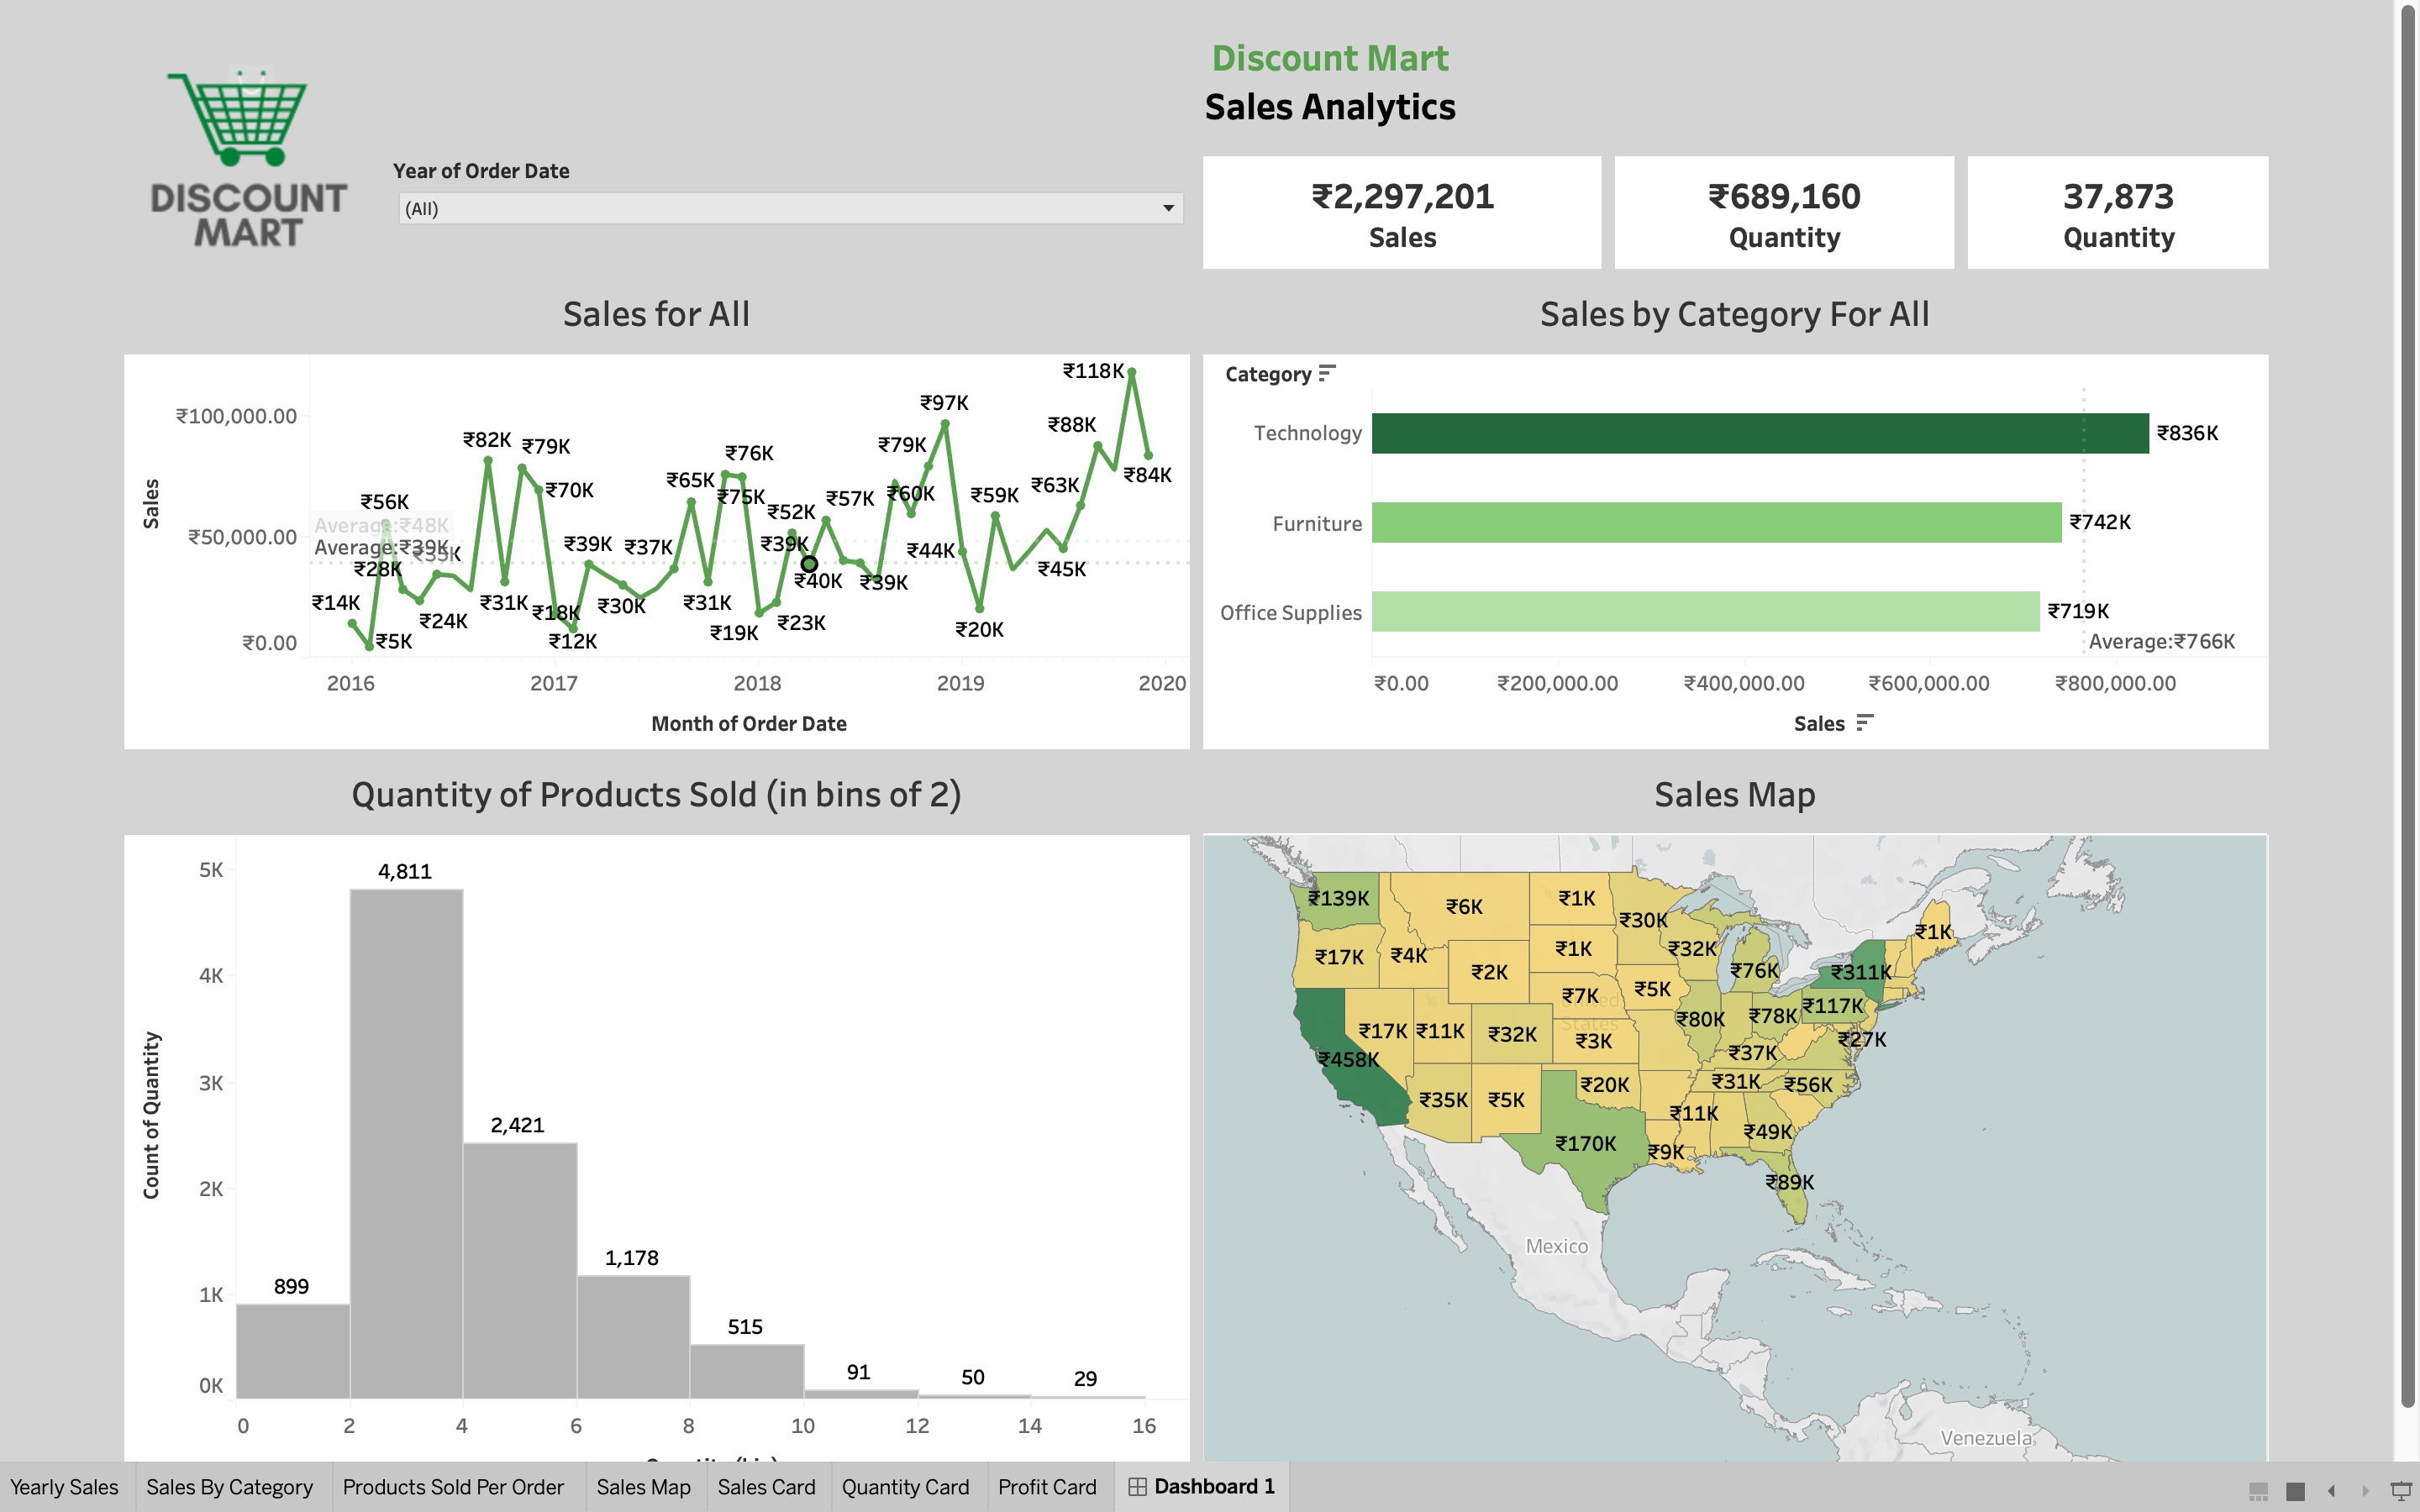

This screenshot's page, from the dashboard's own definition file:
{"tool":"tableau","page":{"name":"Dashboard 1","canvas":[1300,900],"ordinal":0},"visuals":[{"type":"image","param":"Image/Discount+Mart+%281%29.png","box":[8,8,160.5,156]},{"type":"text","box":[168.5,8,1123.5,81]},{"type":"filter","title":"Yearly Sales","param":"[federated.0dkc5b608kg8wr12sl9n90b73rtz].[yr:Order Date:ok]","box":[168.5,89,481.5,75]},{"type":"worksheet","title":"Sales Card","mark":"Automatic","box":[650,89,245,75]},{"type":"worksheet","title":"Profit Card","mark":"Automatic","box":[895,89,209.8,75]},{"type":"worksheet","title":"Quantity Card","mark":"Automatic","box":[1104.8,89,187.3,75]},{"type":"worksheet","title":"Yearly Sales","mark":"Automatic","rows":["Sales"],"cols":["Order Date"],"box":[8,164,642,286]},{"type":"worksheet","title":"Sales By Category","mark":"Automatic","rows":["Category"],"cols":["Sales"],"box":[650,164,642,286]},{"type":"worksheet","title":"Products Sold Per Order","mark":"Automatic","rows":["Quantity"],"cols":["Quantity (bin)"],"box":[8,450,642,442]},{"type":"worksheet","title":"Sales Map","mark":"Automatic","box":[650,450,642,442]}]}

Visuals, with their boxes on the page's 1300x900 design canvas (x1, y1, x2, y2). These are canvas units, not pixel positions in the 2420x1512 screenshot, which may show the page scaled, cropped or inside an application window:
image: <bbox>8, 8, 168, 164</bbox>
text: <bbox>168, 8, 1292, 89</bbox>
"Yearly Sales" filter: <bbox>168, 89, 650, 164</bbox>
"Sales Card" worksheet: <bbox>650, 89, 895, 164</bbox>
"Profit Card" worksheet: <bbox>895, 89, 1105, 164</bbox>
"Quantity Card" worksheet: <bbox>1105, 89, 1292, 164</bbox>
"Yearly Sales" worksheet: <bbox>8, 164, 650, 450</bbox>
"Sales By Category" worksheet: <bbox>650, 164, 1292, 450</bbox>
"Products Sold Per Order" worksheet: <bbox>8, 450, 650, 892</bbox>
"Sales Map" worksheet: <bbox>650, 450, 1292, 892</bbox>
